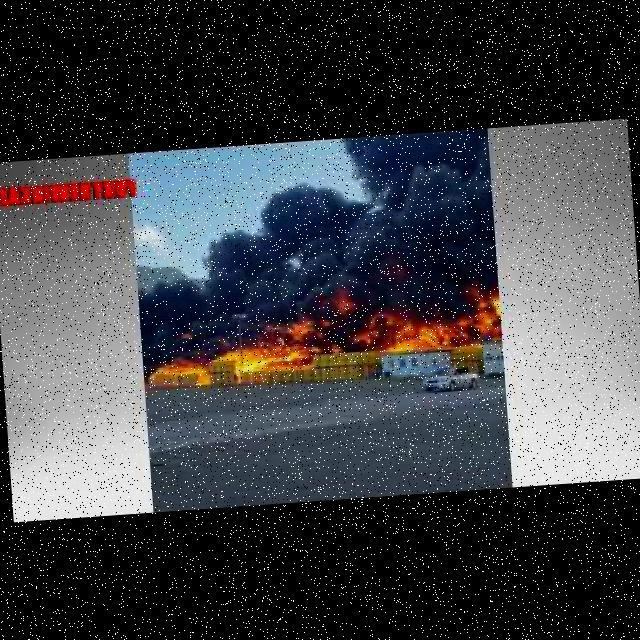Fire: (150, 337, 316, 376), (375, 300, 498, 352)
Smoke: (128, 127, 500, 342)
